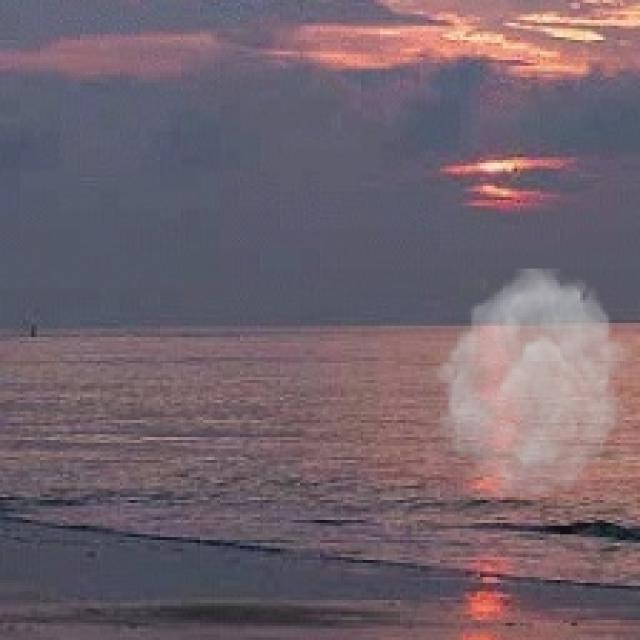smoke: (429, 269, 634, 494)
